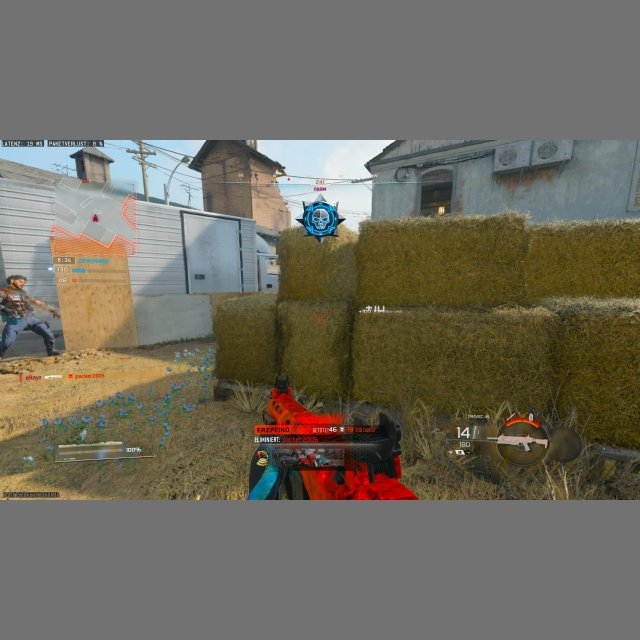head: (7, 275, 27, 290)
player: (0, 274, 59, 371)
